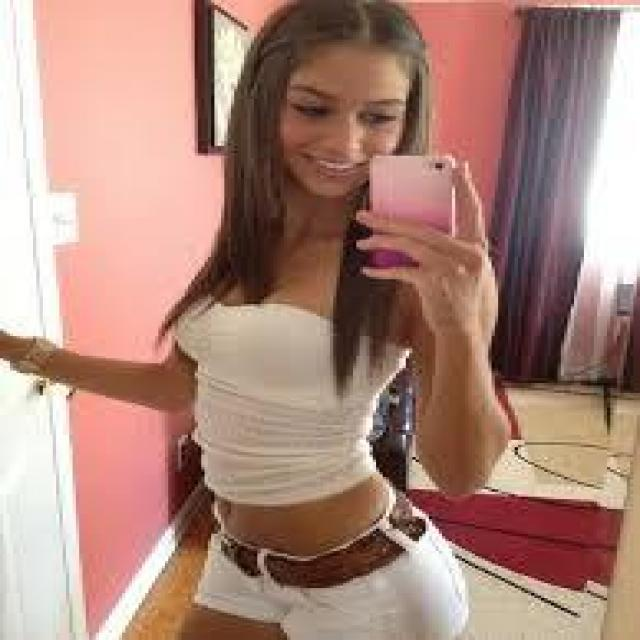person: (102, 0, 538, 638)
